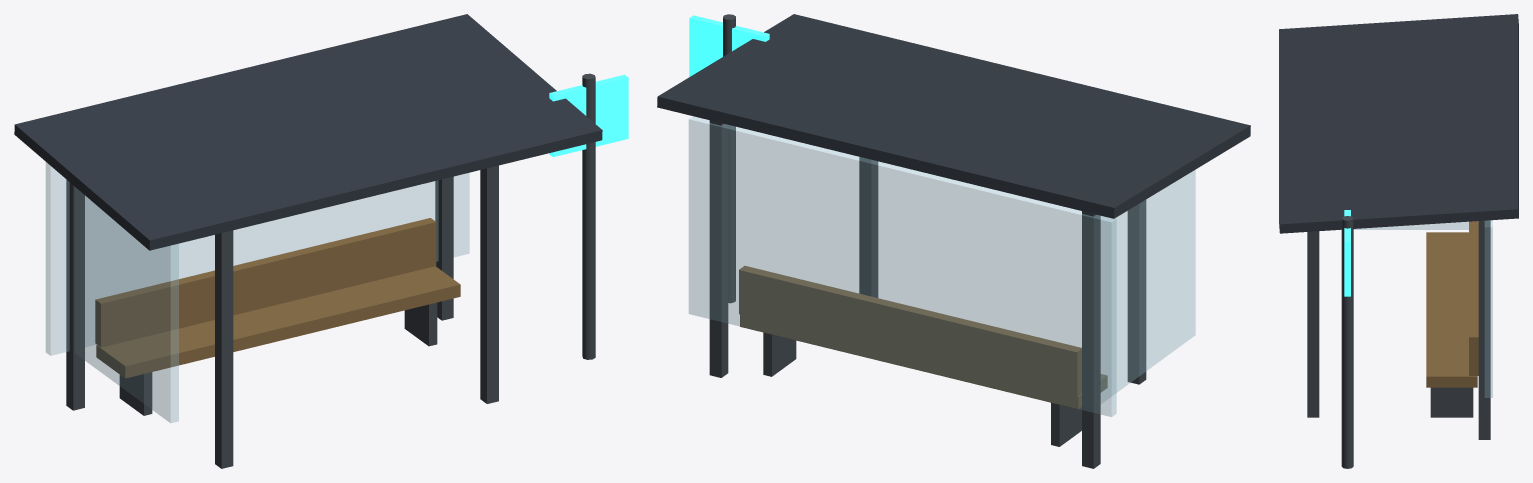
File: bus-stop.glb
The picture shows the model from 3 angles, left to right: view 1: azimuth 30°, elevation 25°; view 2: azimuth 150°, elevation 25°; view 3: azimuth 270°, elevation 25°; orthographic projection. The views are drawn at different scales.
Parts seen in each view (by area): view 1: bus-stop; view 2: bus-stop; view 3: bus-stop.
Part boxes in pixels (<box>): bus-stop: <box>14,14,628,468</box>; bus-stop: <box>657,14,1250,468</box>; bus-stop: <box>1279,14,1518,468</box>.
Bounding box in the file's own units: 6.15 × 3.2 × 2.8.
